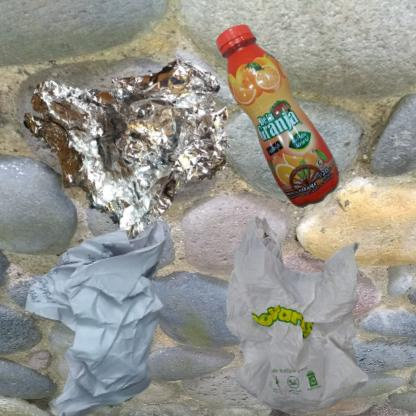aluminio: (10, 10, 290, 284)
bolsa: (213, 213, 392, 416)
botella: (213, 10, 363, 249)
papel: (10, 213, 215, 416)
